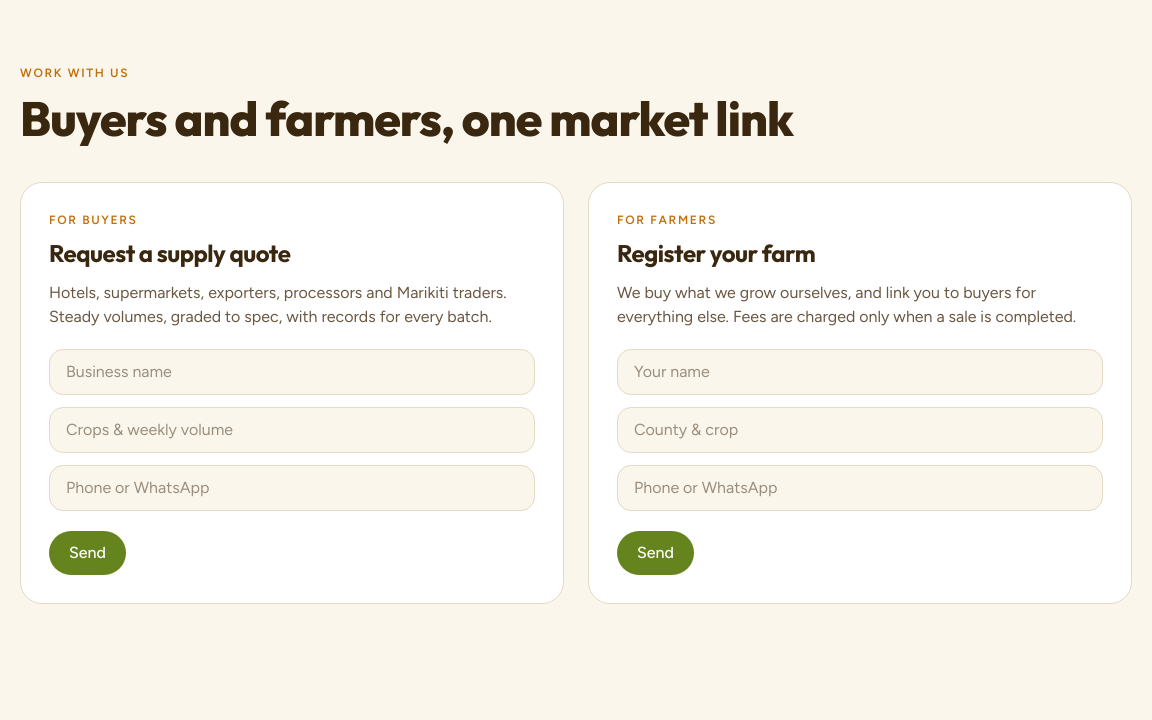
Test: Work with us › saves a farmer registration, reading the county from before the comma
The image size is (1152, 720).
Type "Wanjiku Kamau" into the field with placeholder "Your name". click: (860, 372)
box: [617,349,1103,395]
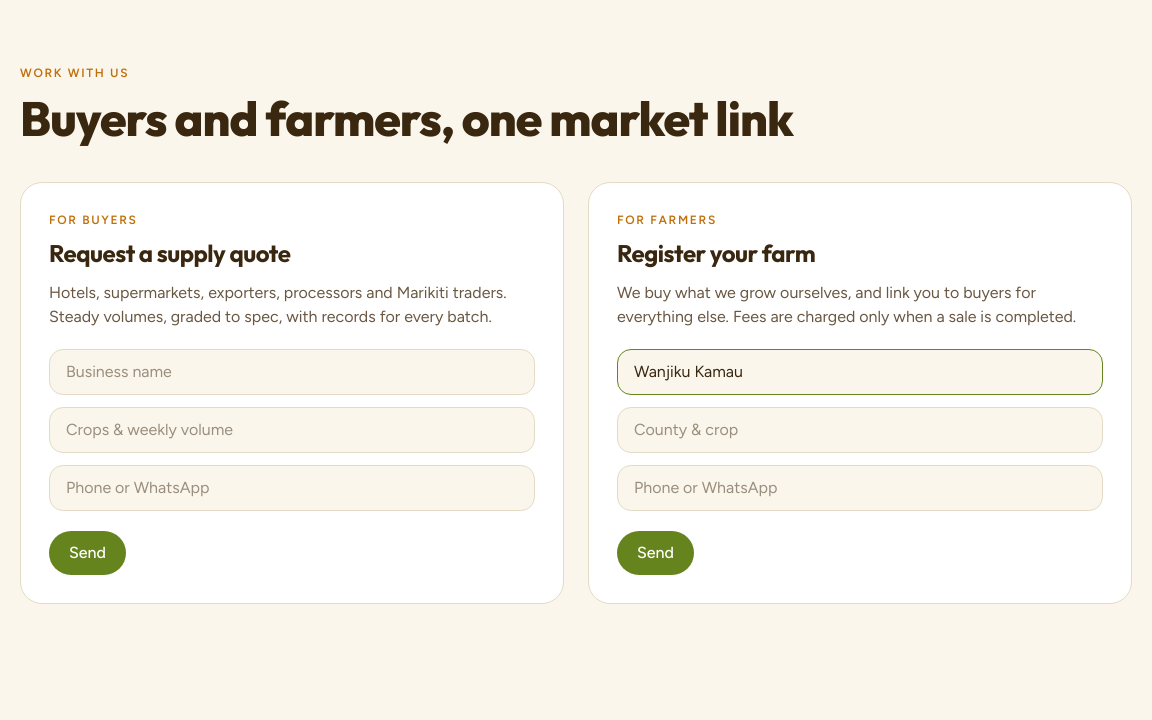
Type "Kirinyaga, cucumbers" into the field with placeholder "County & crop". click: (860, 430)
box: [617,407,1103,453]
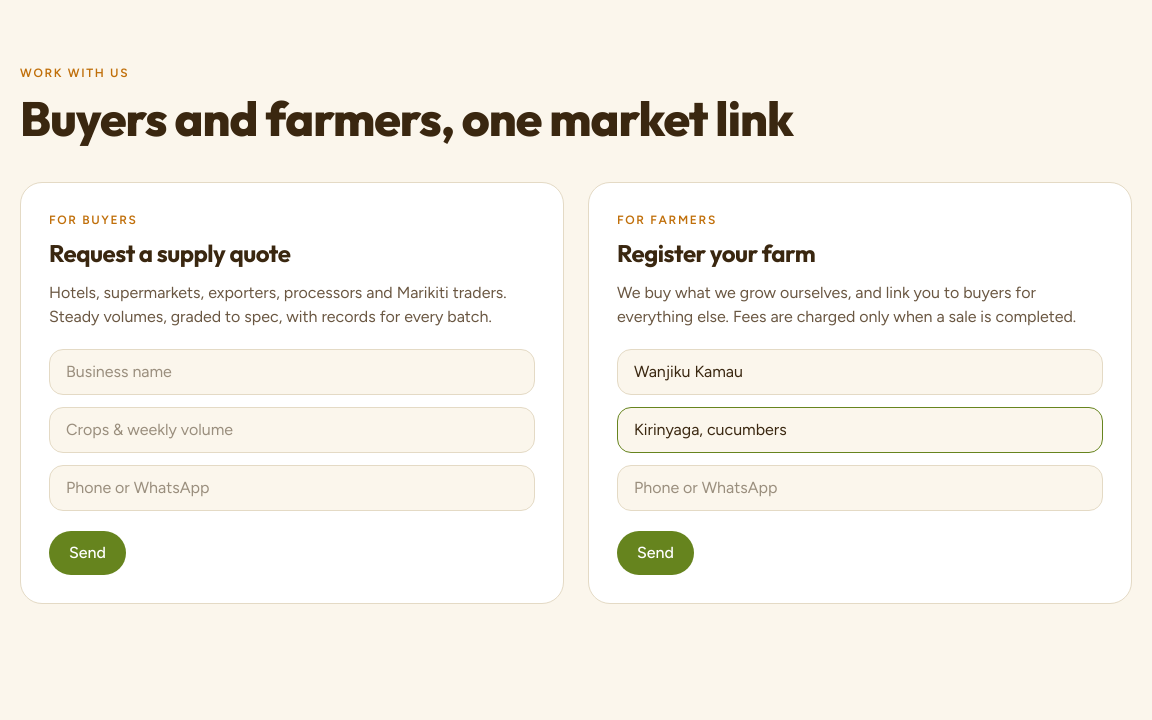
Type "0712345678" into the field with placeholder "Phone or WhatsApp" below "Register your farm". click: (860, 488)
box: [617,465,1103,511]
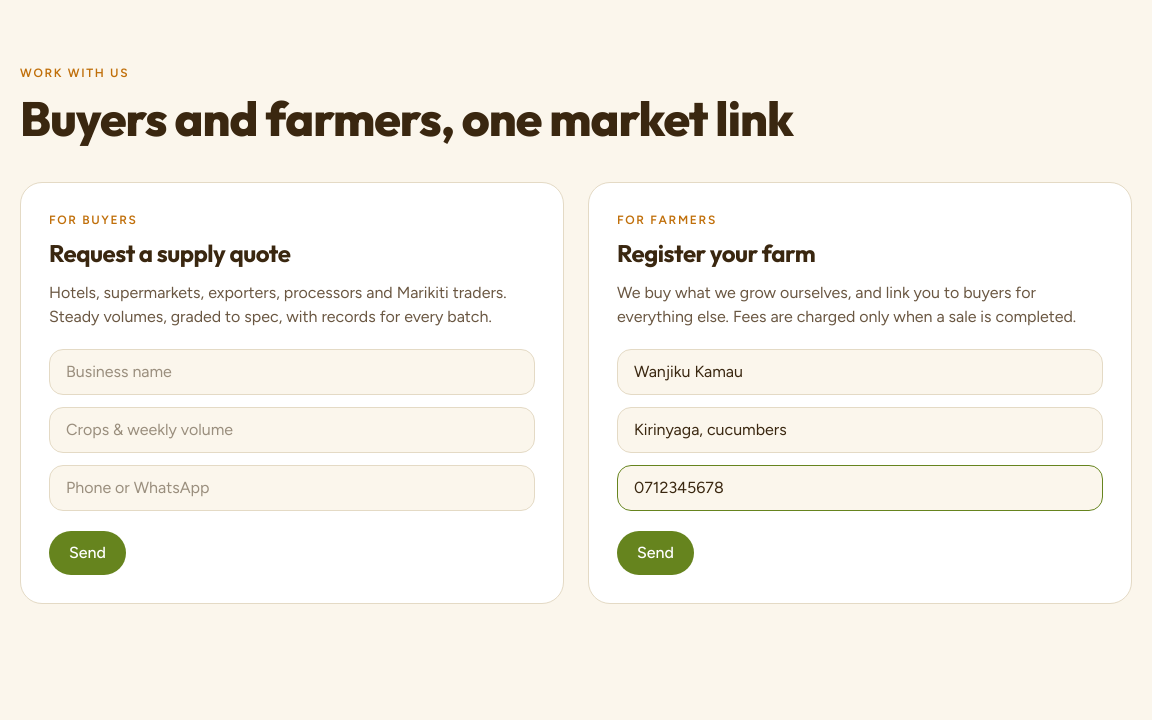
Click the button "Send" below "Register your farm". click: (656, 553)
box: [617,531,694,575]
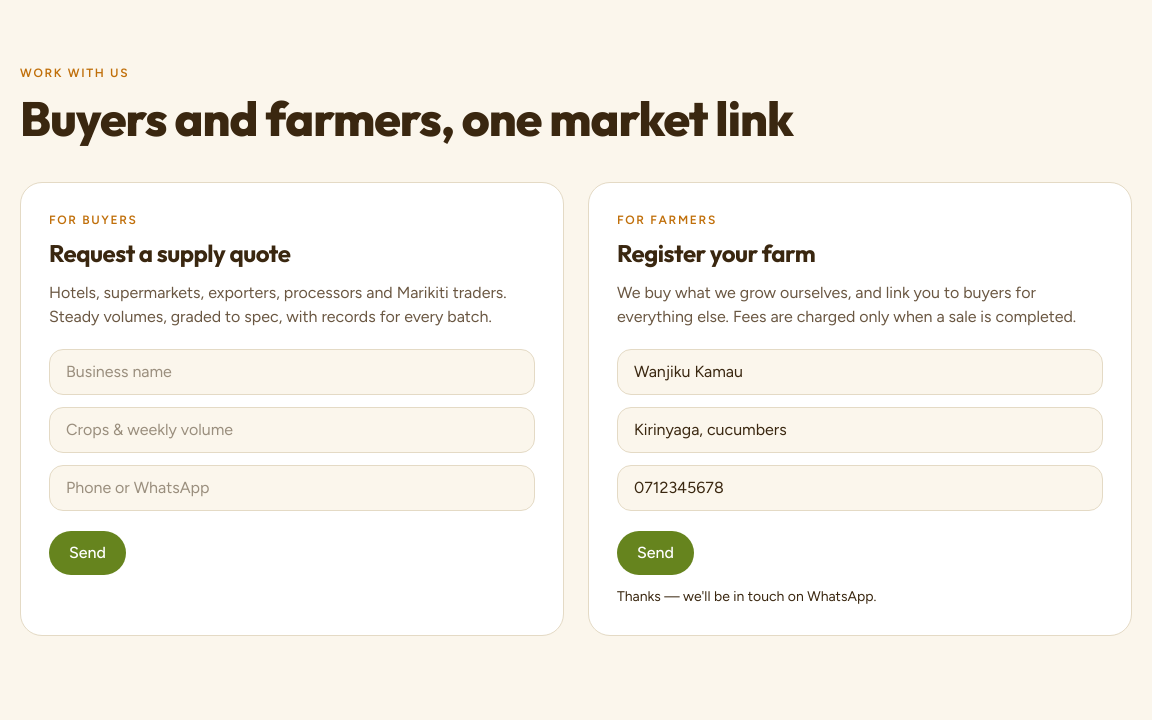
Expected: the text "Thanks — we'll be in touch on WhatsApp." is shown, [617,588,876,605]
